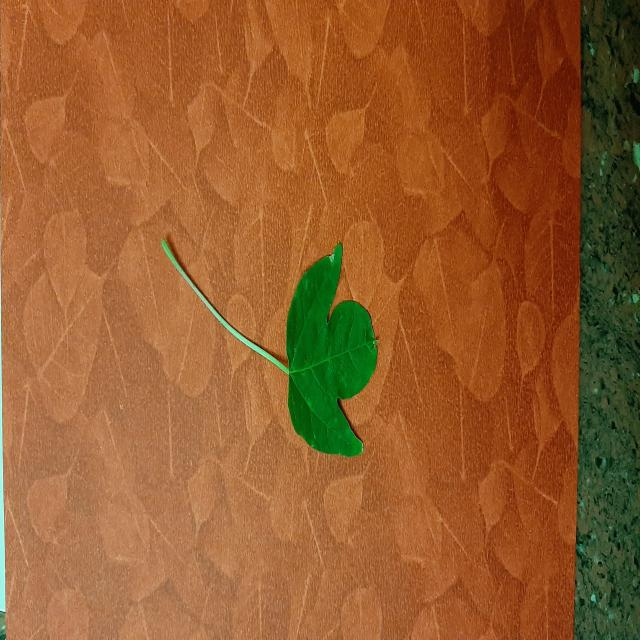papaya: (286, 244, 378, 455)
